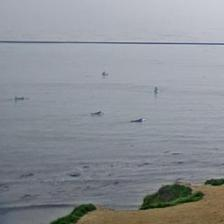surfer: (15, 96, 24, 101), (91, 110, 102, 114), (101, 70, 107, 76), (131, 119, 142, 122), (154, 87, 158, 93)
